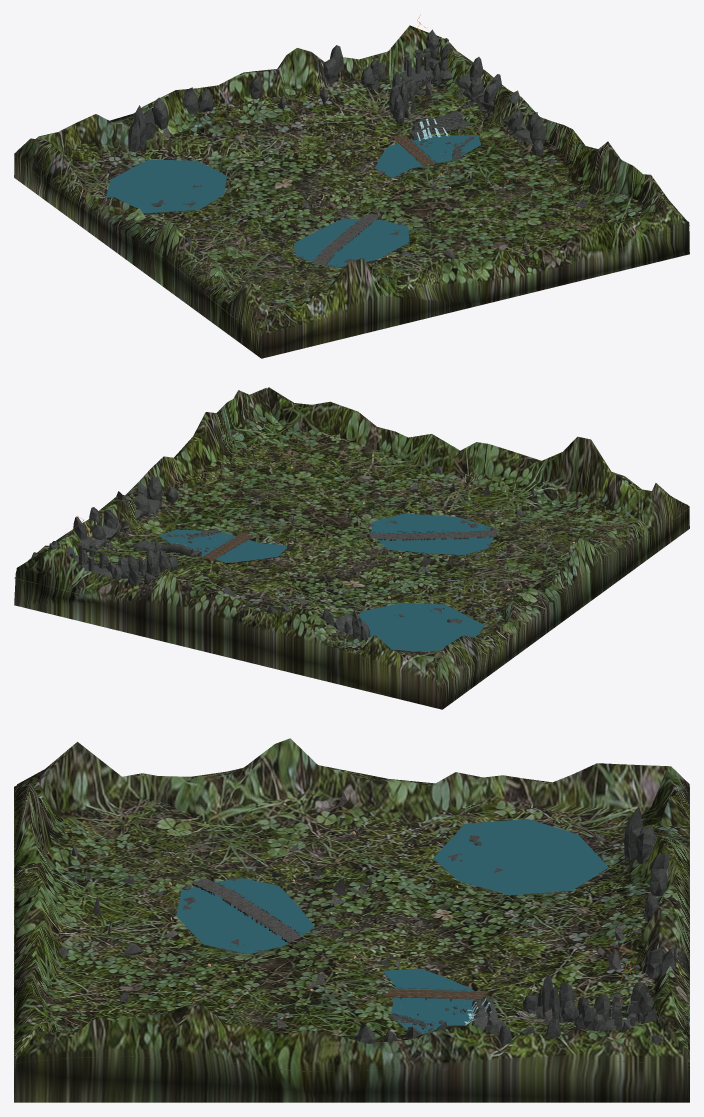
Rendered from world009_LOD2.fbx.
3 views of the same model, one above another, from view 1: azimuth 30°, elevation 25°; view 2: azimuth 150°, elevation 25°; view 3: azimuth 270°, elevation 25° (orthographic). The views are drawn at different scales.
Visible parts, largest first — view 1: LODMesh_0309, LODMesh_0310, LODMesh_0308, LODMesh_0307, LODMesh_0383, LODMesh_0400, LODMesh_0406, LODMesh_0381, LODMesh_0409, LODMesh_0410, LODMesh_0399, LODMesh_0404 (+28 smaller); view 2: LODMesh_0308, LODMesh_0310, LODMesh_0309, LODMesh_0307, LODMesh_0383, LODMesh_0381, LODMesh_0409, LODMesh_0399, LODMesh_0410, LODMesh_0403, LODMesh_0393, LODMesh_0390 (+26 smaller); view 3: LODMesh_0307, LODMesh_0310, LODMesh_0309, LODMesh_0308, LODMesh_0383, LODMesh_0381, LODMesh_0406, LODMesh_0399, LODMesh_0392, LODMesh_0410, LODMesh_0403, LODMesh_0386 (+31 smaller).
Boxes of the visible parts, box(x1,y1,x2,y2) form: LODMesh_0309: box(261, 205, 689, 358); LODMesh_0310: box(14, 138, 268, 358); LODMesh_0308: box(35, 25, 441, 163); LODMesh_0307: box(430, 35, 685, 219); LODMesh_0383: box(106, 159, 226, 213); LODMesh_0400: box(201, 129, 313, 187); LODMesh_0406: box(271, 114, 381, 168); LODMesh_0381: box(294, 218, 409, 267); LODMesh_0409: box(465, 194, 577, 245); LODMesh_0410: box(424, 161, 538, 213); LODMesh_0399: box(239, 169, 354, 218); LODMesh_0404: box(351, 179, 463, 229); LODMesh_0308: box(14, 547, 442, 709); LODMesh_0310: box(435, 483, 689, 709); LODMesh_0309: box(266, 387, 689, 527); LODMesh_0307: box(14, 388, 272, 599); LODMesh_0383: box(358, 603, 484, 651); LODMesh_0381: box(371, 513, 493, 555); LODMesh_0409: box(248, 455, 360, 503); LODMesh_0399: box(309, 549, 419, 599); LODMesh_0410: box(208, 484, 322, 529); LODMesh_0403: box(323, 475, 435, 520); LODMesh_0393: box(382, 571, 494, 612); LODMesh_0390: box(503, 480, 599, 529); LODMesh_0307: box(14, 1004, 689, 1102); LODMesh_0310: box(17, 738, 689, 823); LODMesh_0309: box(14, 776, 69, 1101); LODMesh_0308: box(625, 771, 689, 1101); LODMesh_0383: box(433, 819, 608, 895); LODMesh_0381: box(176, 878, 314, 954); LODMesh_0406: box(462, 926, 582, 984); LODMesh_0399: box(345, 888, 466, 941); LODMesh_0392: box(238, 841, 356, 895); LODMesh_0410: box(237, 982, 356, 1032); LODMesh_0403: box(120, 939, 240, 989); LODMesh_0386: box(238, 791, 357, 846).
Bounding box in the file's own units: 40000 × 7560 × 40000.
